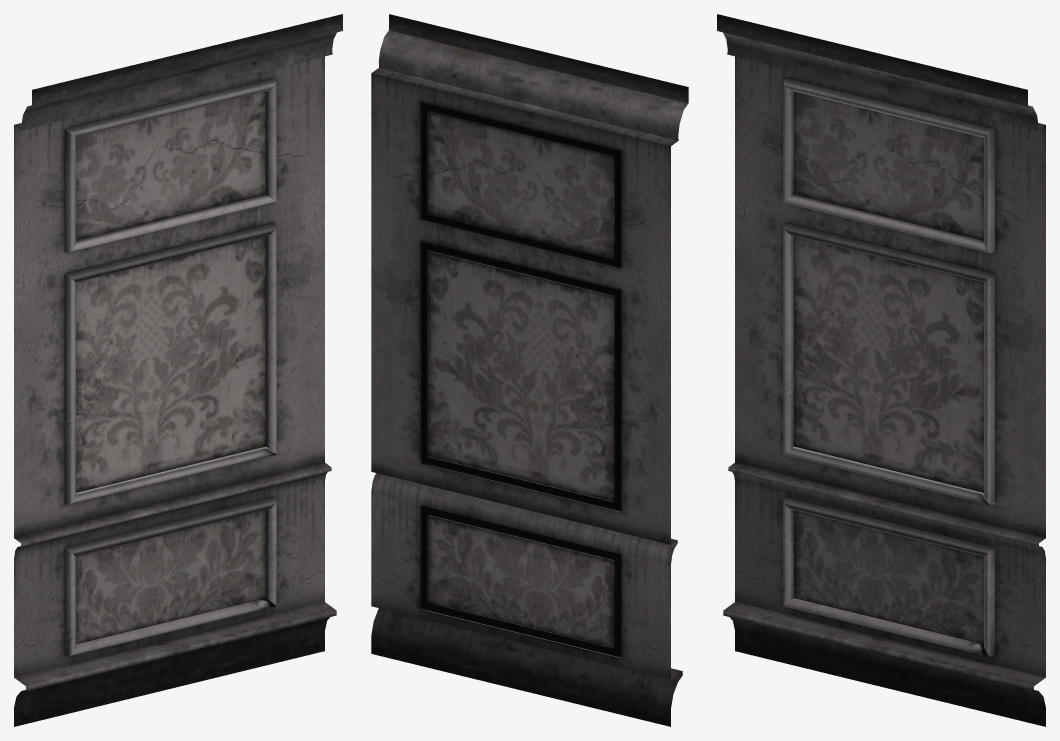
Rendered from 42_short.dae.
3 renders of one model, left to right at view 1: azimuth 30°, elevation 25°; view 2: azimuth 150°, elevation 25°; view 3: azimuth 330°, elevation 25°, orthographic. The views are drawn at different scales.
Visible parts, largest first — view 1: mansionbase_short; view 2: mansionbase_short; view 3: mansionbase_short.
Boxes of the visible parts, x1,y1,x2,y2 form: mansionbase_short: (14, 14, 342, 726); mansionbase_short: (371, 14, 688, 726); mansionbase_short: (717, 14, 1045, 726).
Size of the model in its own units: 2 by 4 by 0.2045.
Materials: 1 (1 with a texture image).
